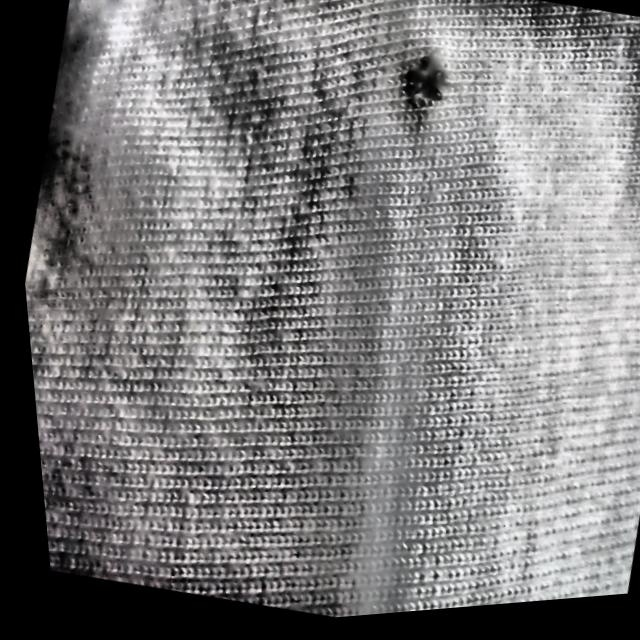Hole: (382, 32, 471, 136)
